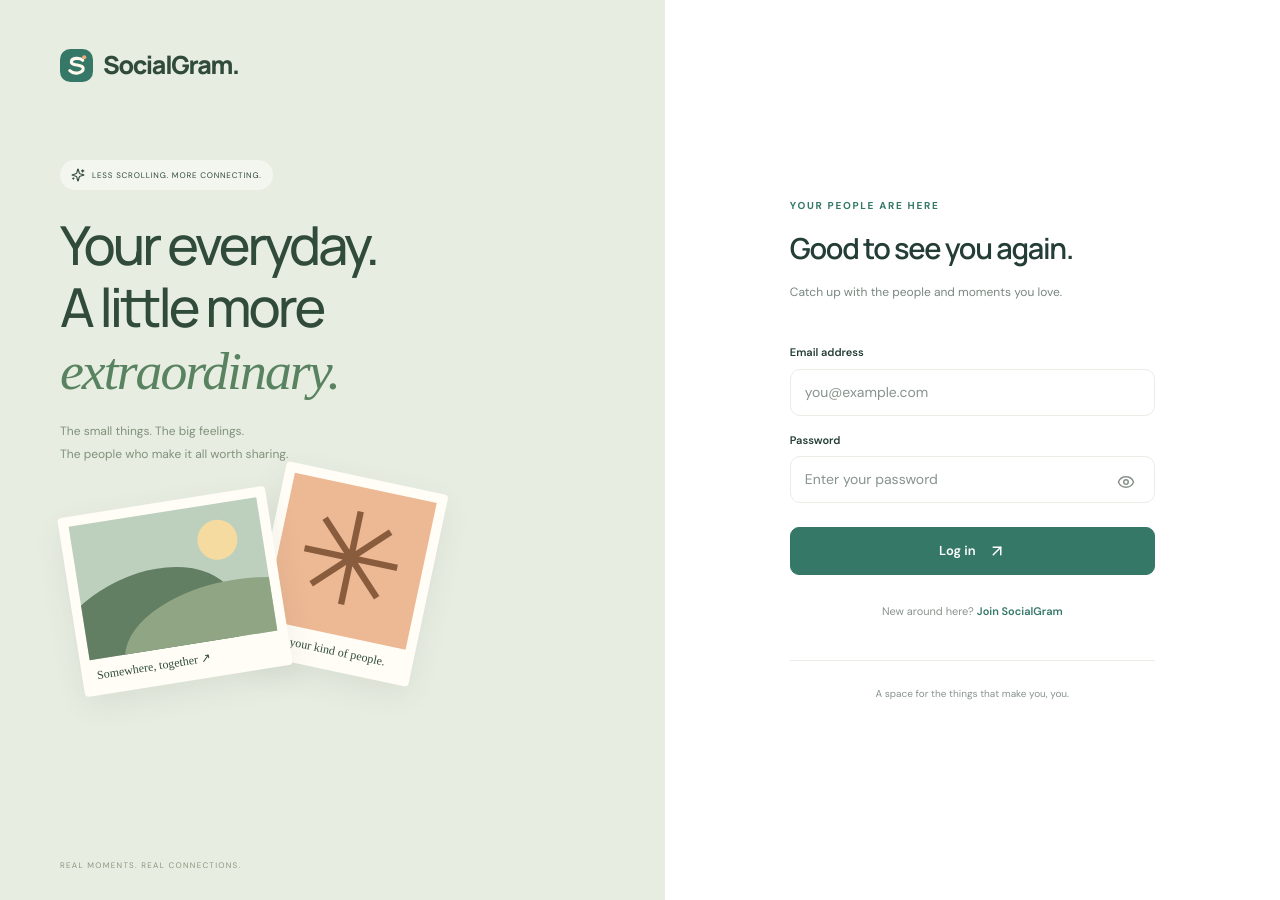
Test: SocialGram state and UI › login errors are visible and do not authenticate the user
Type "tanuj@example.test" into the field labelled "Email address".
click(972, 392); type("tanuj@example.test")  # box [790,368,1155,416]
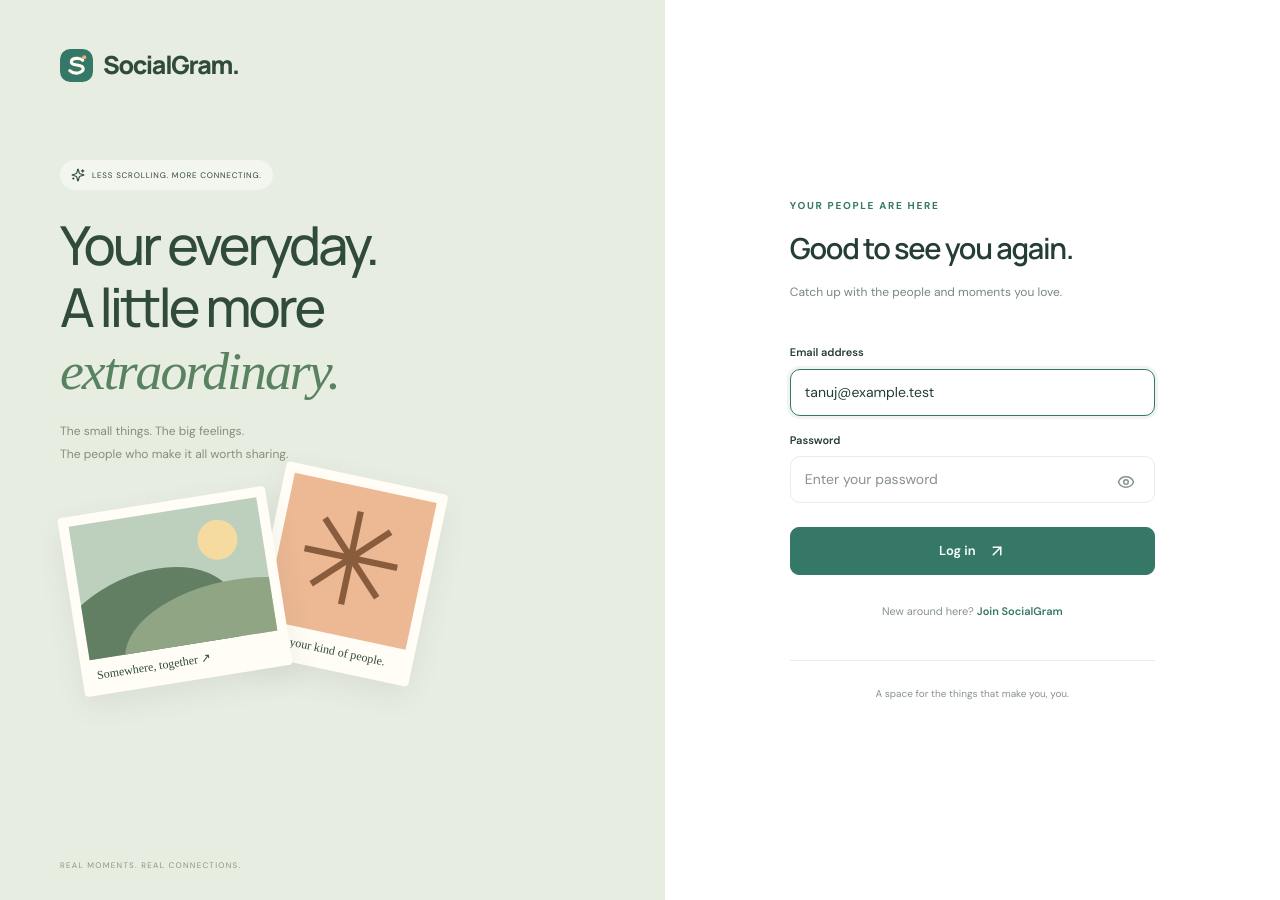
Type "incorrect" into the password field named "Enter your password".
click(972, 480); type("incorrect")  # box [790,456,1155,503]
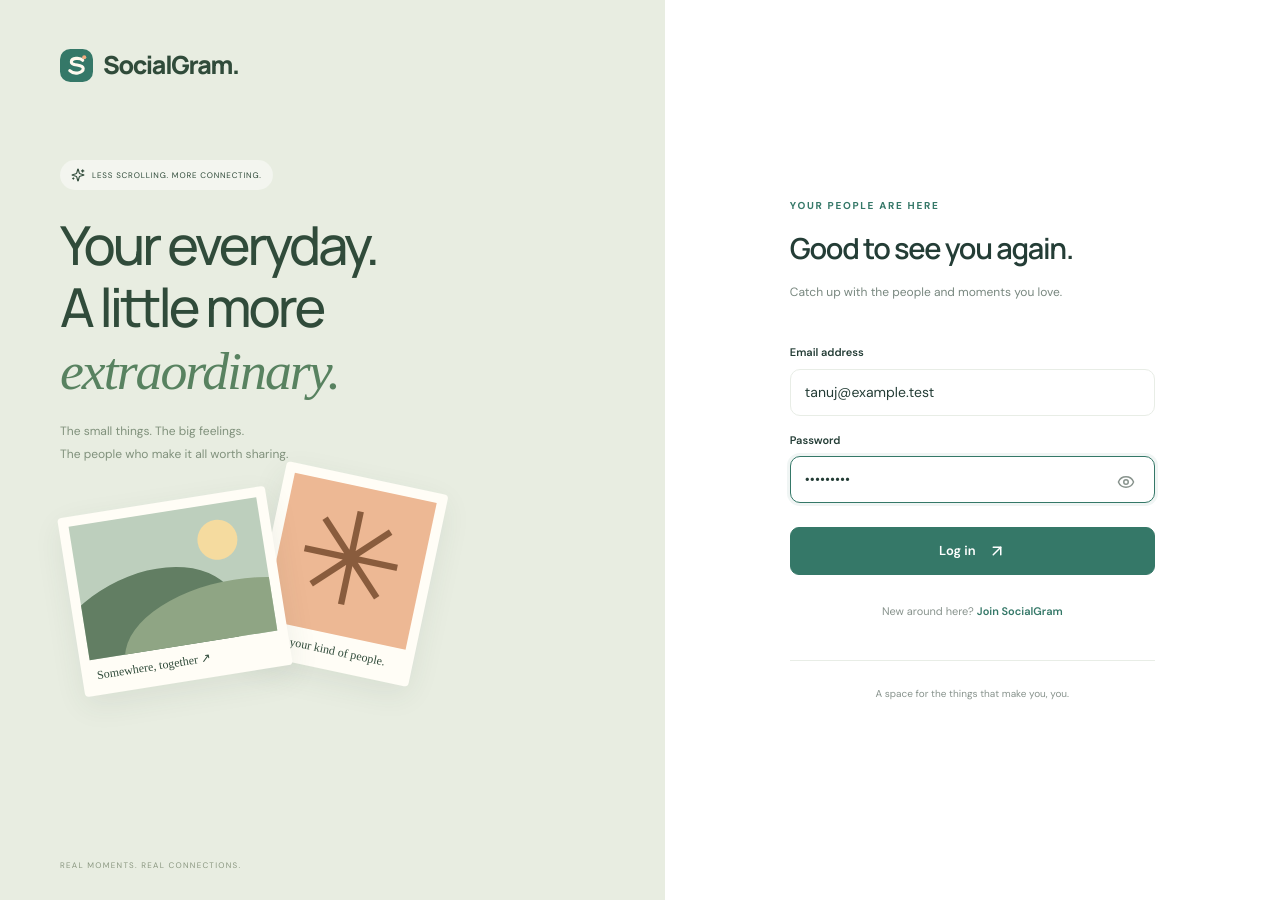
Click the button "Log in".
click(972, 551)  # box [790,527,1155,575]
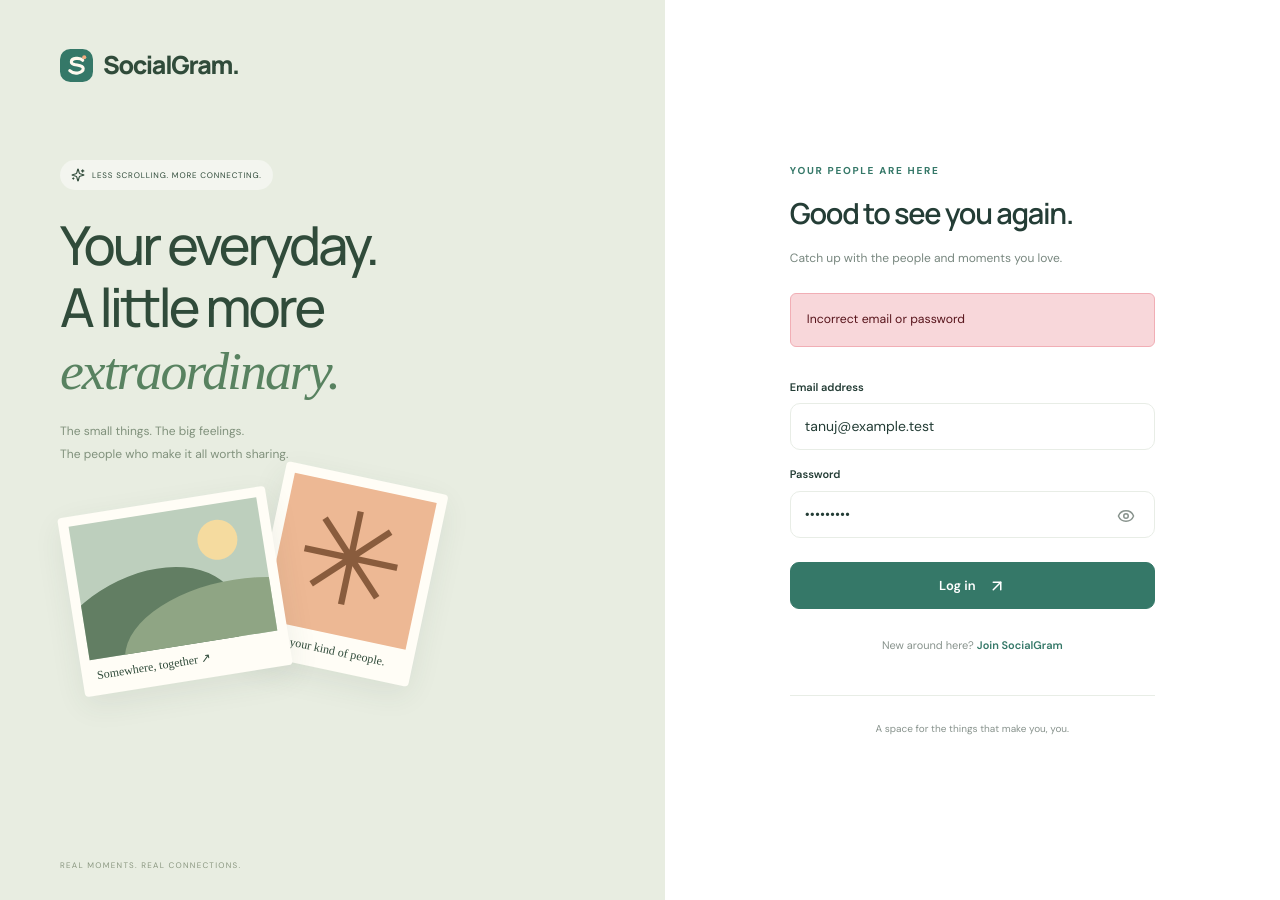
expect the text "Incorrect email or password" is shown: met, box [790,293,1155,347]
